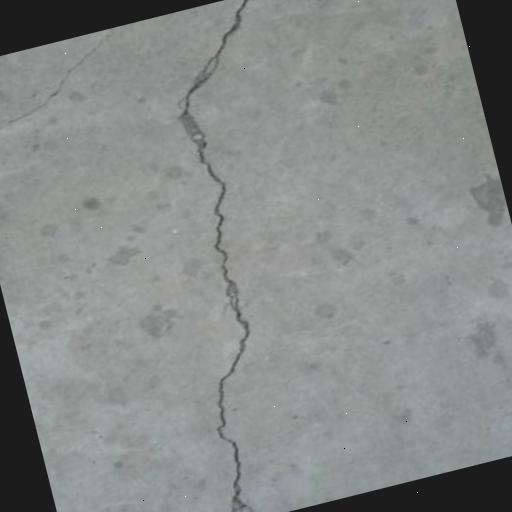spalling: (161, 0, 269, 512)
